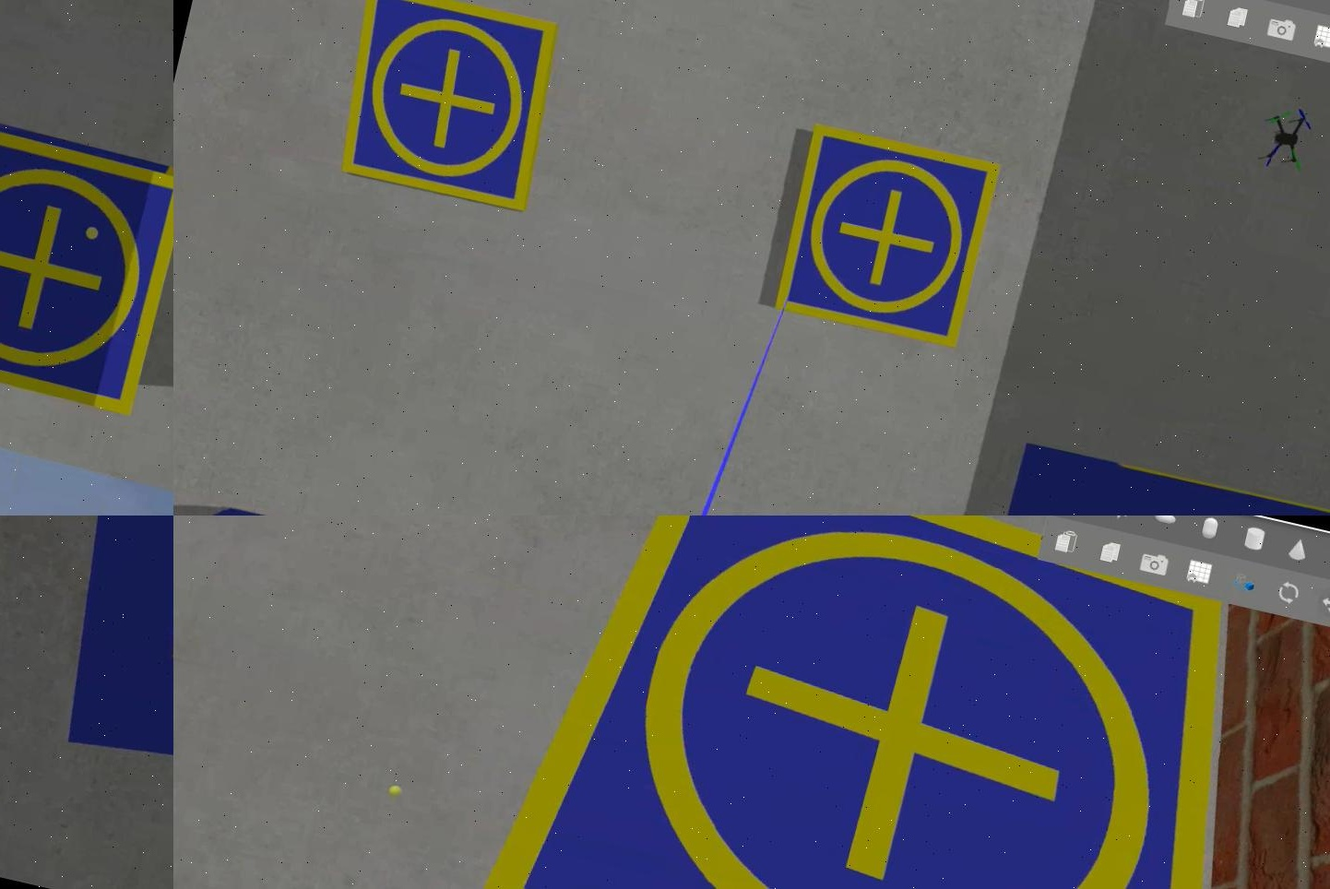large_base: (7, 516, 172, 868), (933, 433, 1328, 516)
small_base: (440, 516, 1325, 889), (766, 121, 1001, 356), (323, 1, 564, 219), (0, 122, 172, 421)
